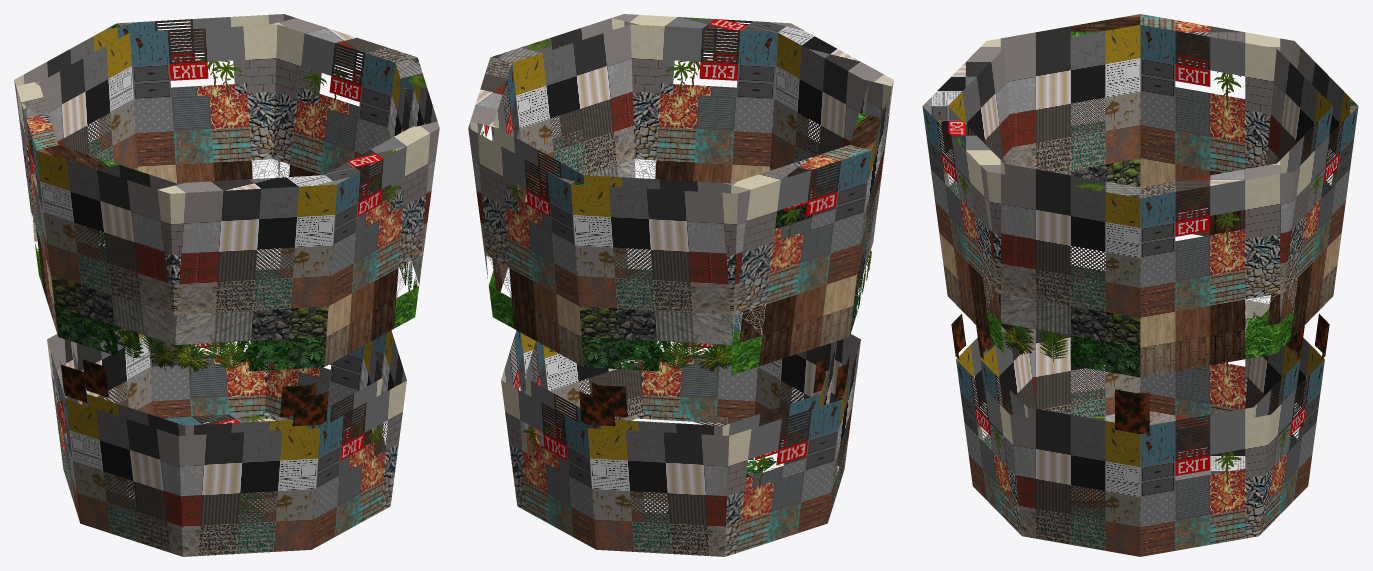
The model's file is OfficeTrashcan.fbx.
3 views of the same model, side by side, from view 1: azimuth 30°, elevation 25°; view 2: azimuth 150°, elevation 25°; view 3: azimuth 270°, elevation 25° (orthographic).
Parts seen in each view (by area): view 1: Trashcan; view 2: Trashcan; view 3: Trashcan.
Part boxes in pixels (x1=…): Trashcan: x1=14, y1=14, x2=439, y2=556; Trashcan: x1=468, y1=14, x2=893, y2=556; Trashcan: x1=922, y1=14, x2=1358, y2=556.
Size of the model in its own units: 0.39 by 0.375 by 0.39.
